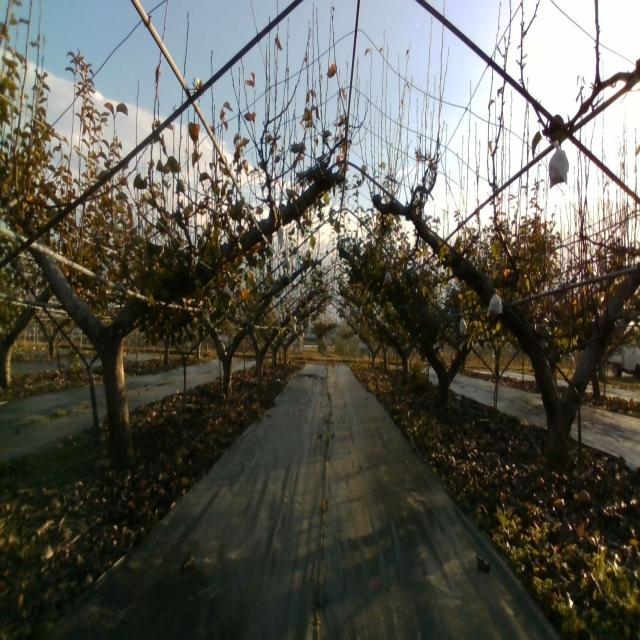pearbags: (548, 139, 570, 187), (486, 288, 504, 314)
